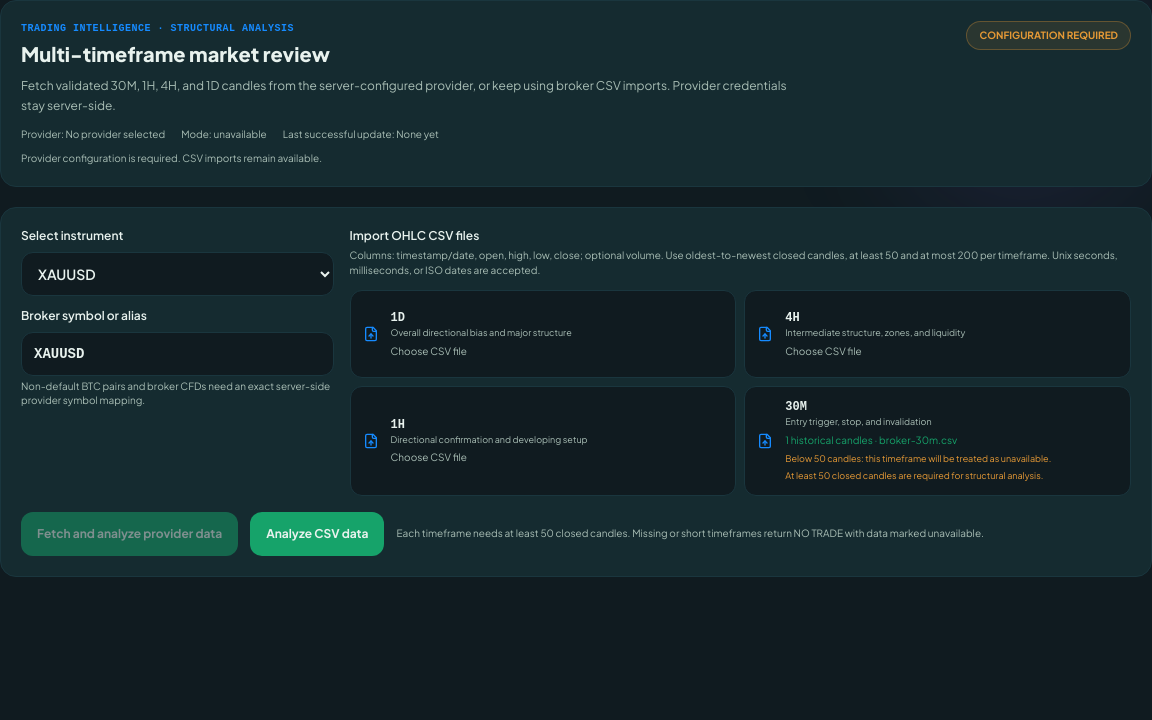
TradingPage › uploads broker CSV candles and displays the server's explicit NO TRADE response
Earlier steps of the test are not shown.
Expected: the text "1 historical candles · broker-30m.csv" is shown, [785,434,957,446]
Click the button with test id "button-analyze-market": (317, 534) [250,512,384,556]
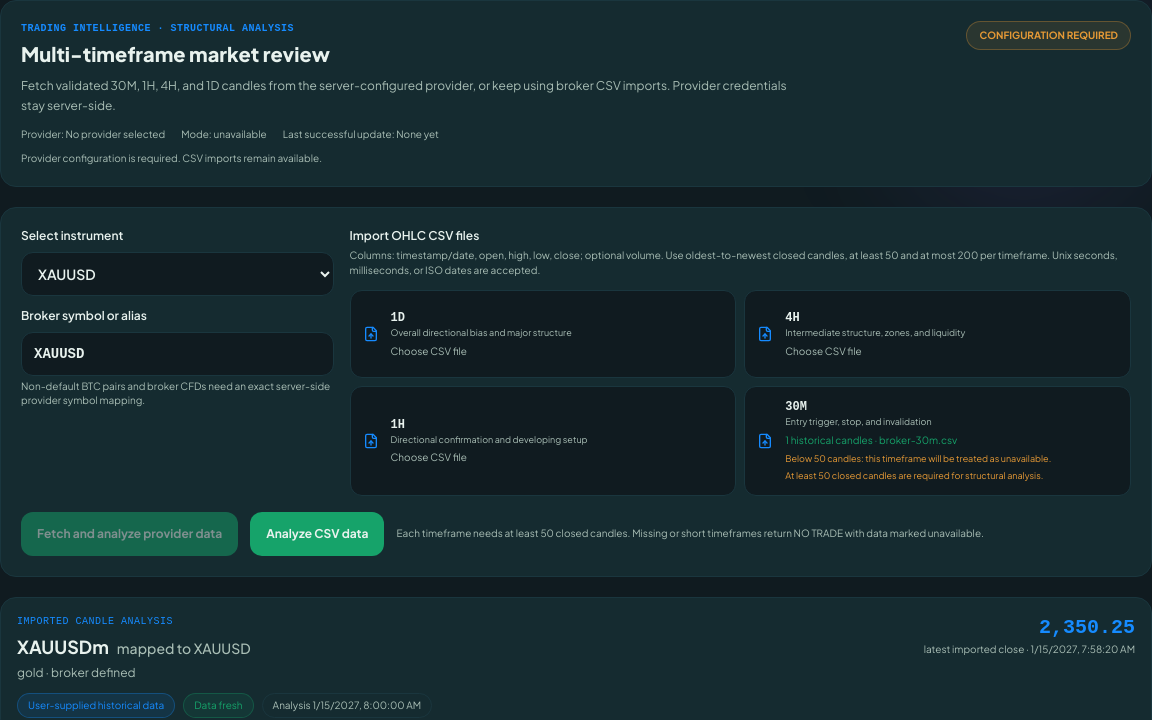
Result: the text "User-supplied historical data" is shown at [17,693,175,718]
